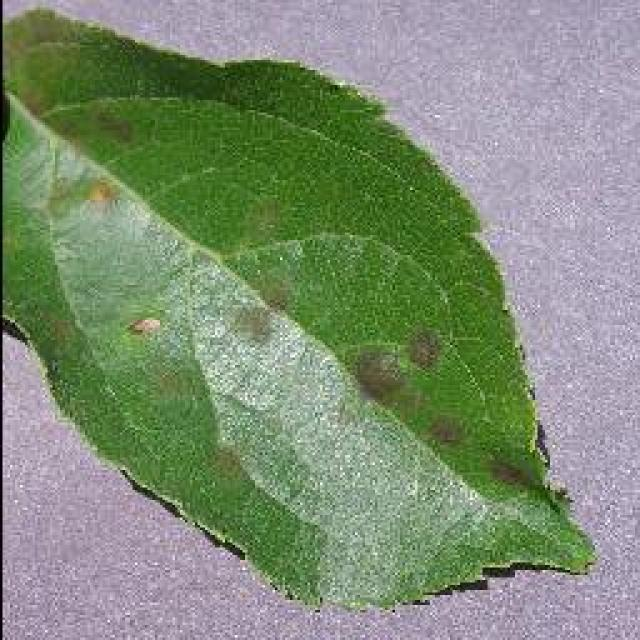apple scab disease: (0, 2, 598, 612)
